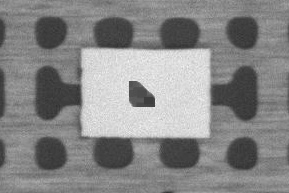DIE_INK: (193, 54, 232, 71)
